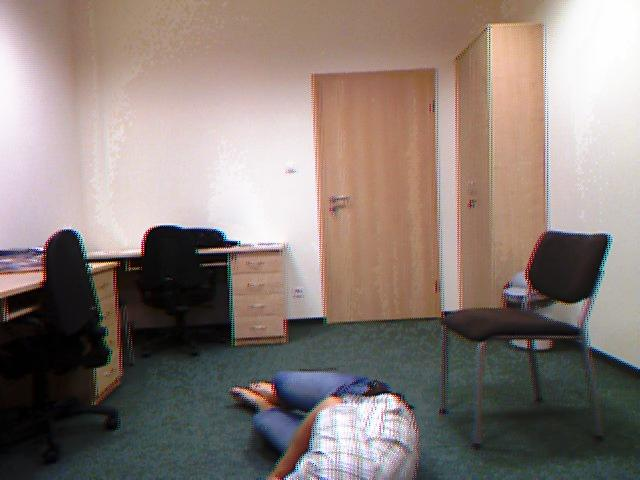fall: (253, 373, 423, 480)
